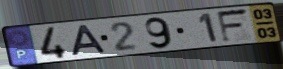1: (197, 12, 219, 44)
2: (110, 21, 140, 53)
4: (39, 25, 70, 60)
9: (143, 16, 175, 50)
A: (69, 24, 110, 57)
F: (215, 7, 251, 45)
